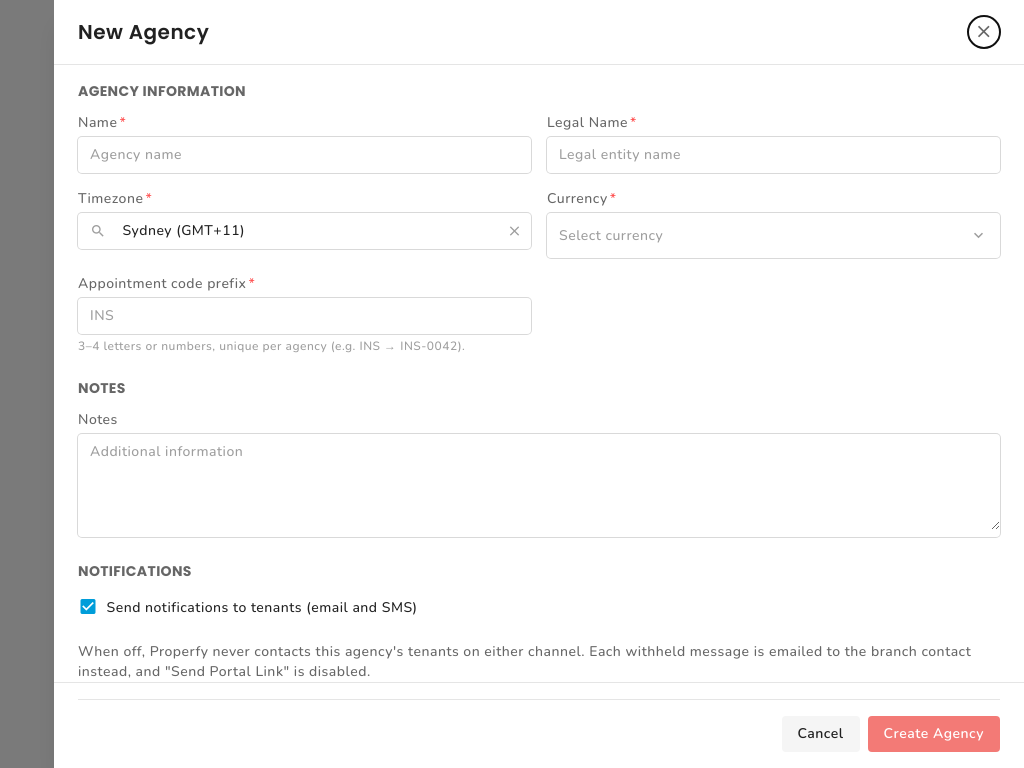
Test: TenantFormDrawer – submit behavior › renders backend VALIDATION_ERROR details inline on the matching field
In the field labelled "name": (304, 155) x1=78 y1=137 x2=531 y2=173, type "Test Agency"
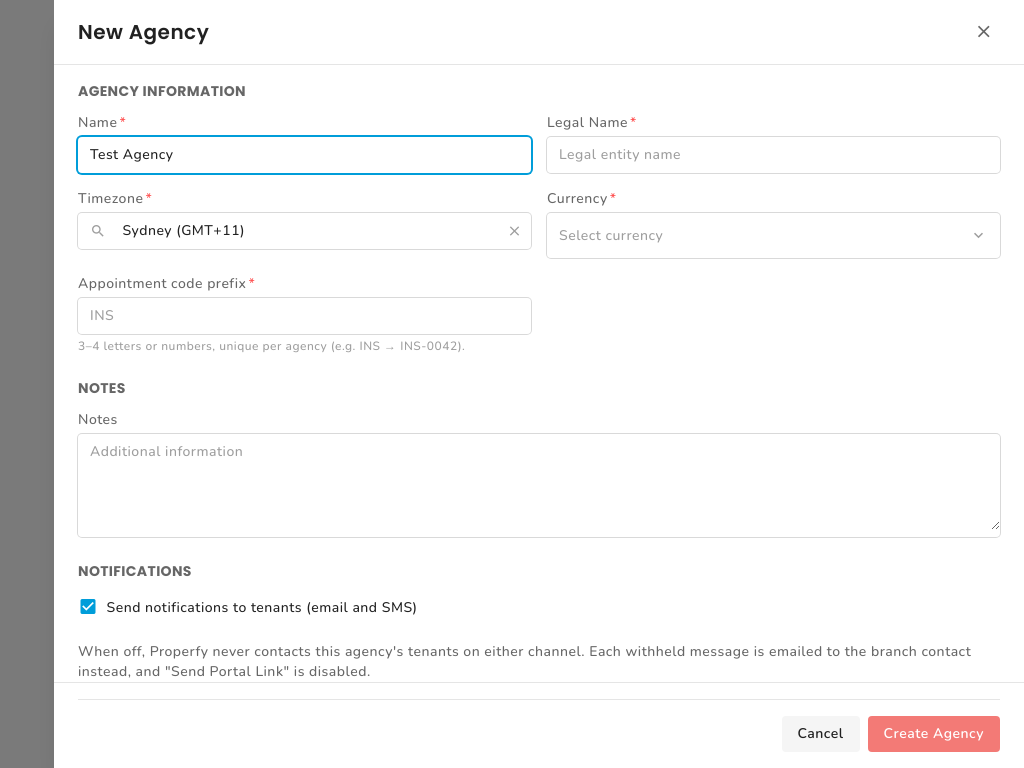
In the field named "Legal Name": (774, 155) x1=547 y1=137 x2=1000 y2=173, type "Test Agency LLC"
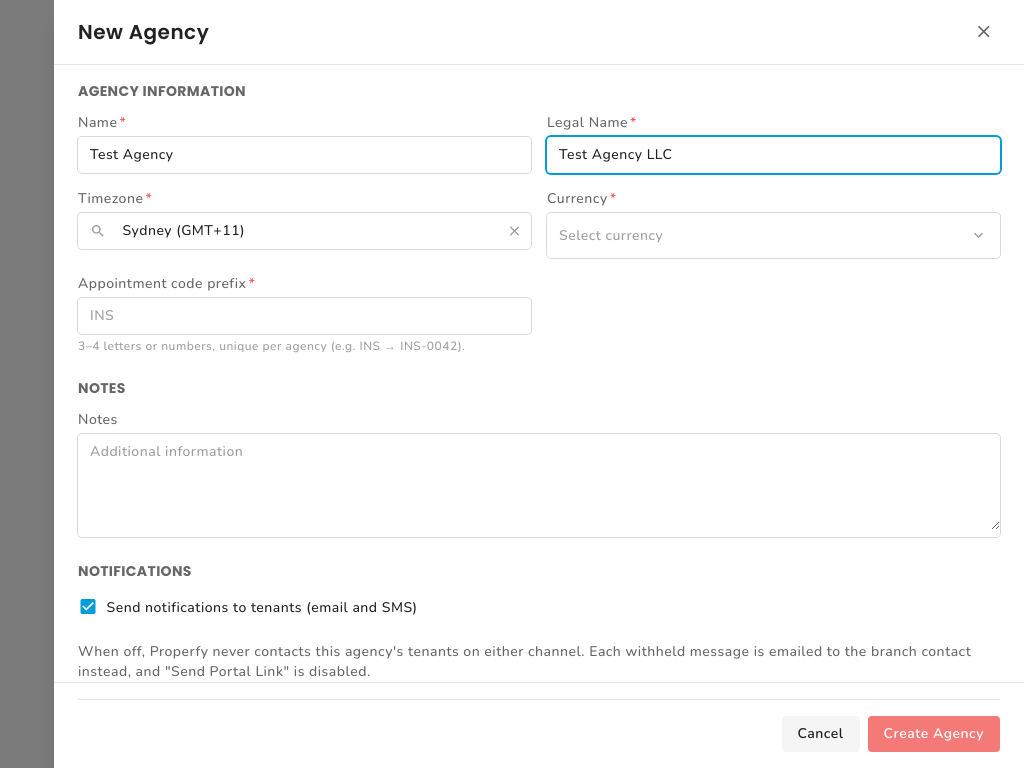
Click the button "Select currency": click(611, 235) x1=547 y1=213 x2=1000 y2=258
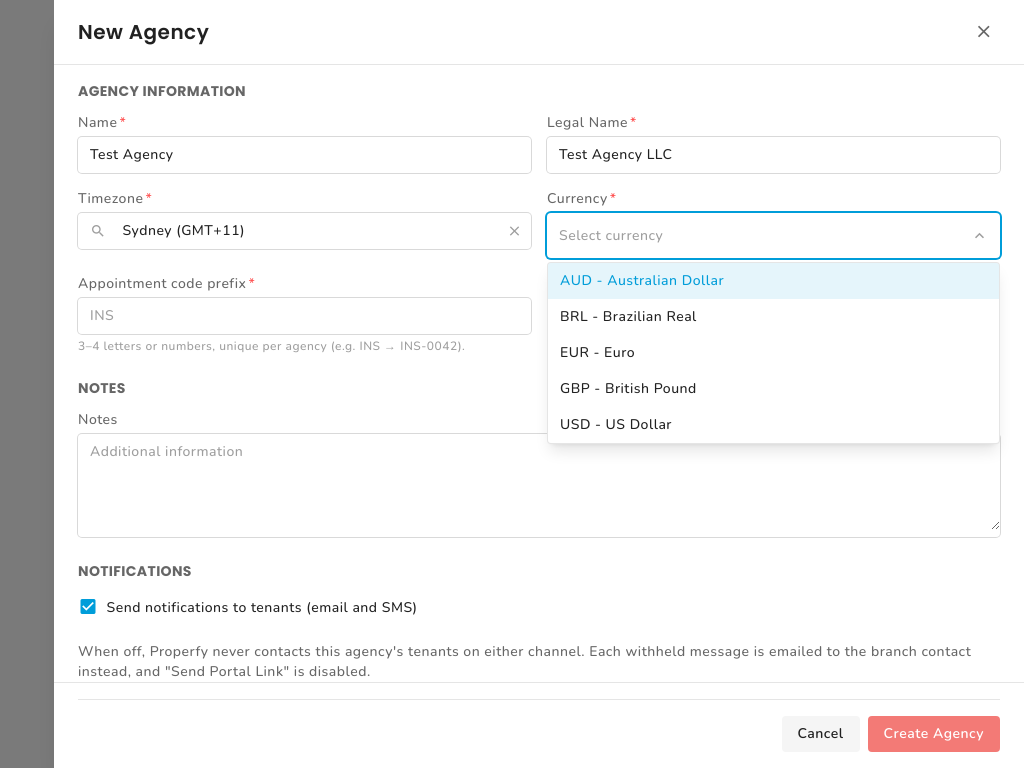
Click the option "AUD - Australian Dollar": click(642, 280) x1=548 y1=263 x2=999 y2=299
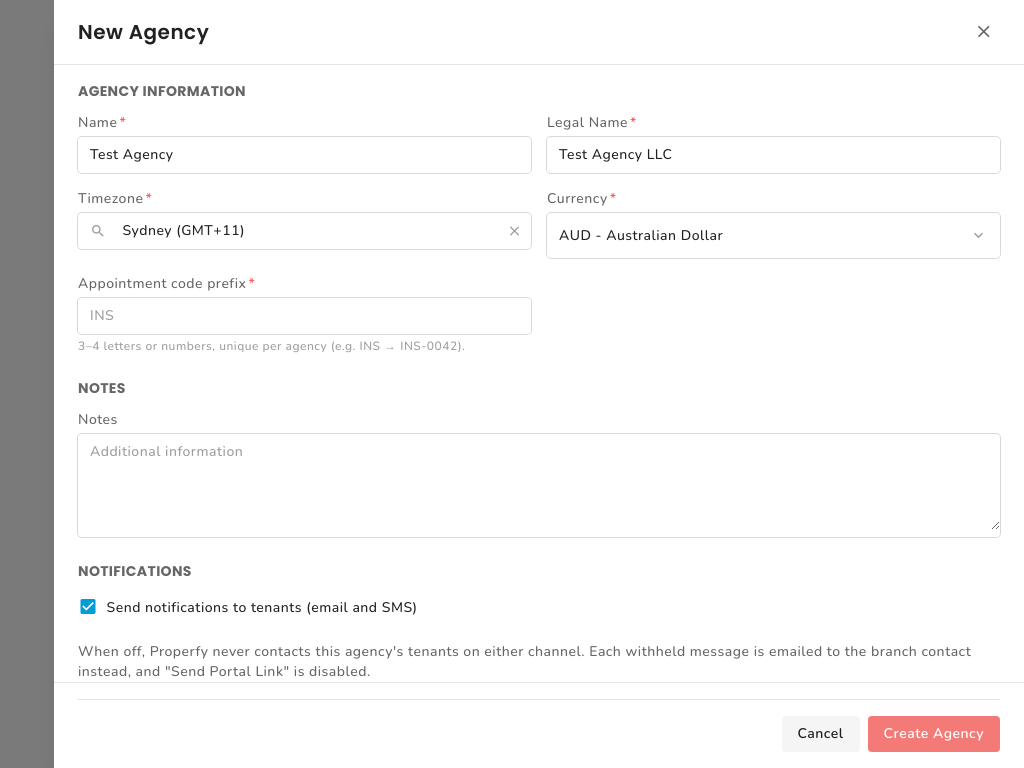
In the field named "Appointment code prefix": (304, 316) x1=78 y1=298 x2=531 y2=334, type "TST"
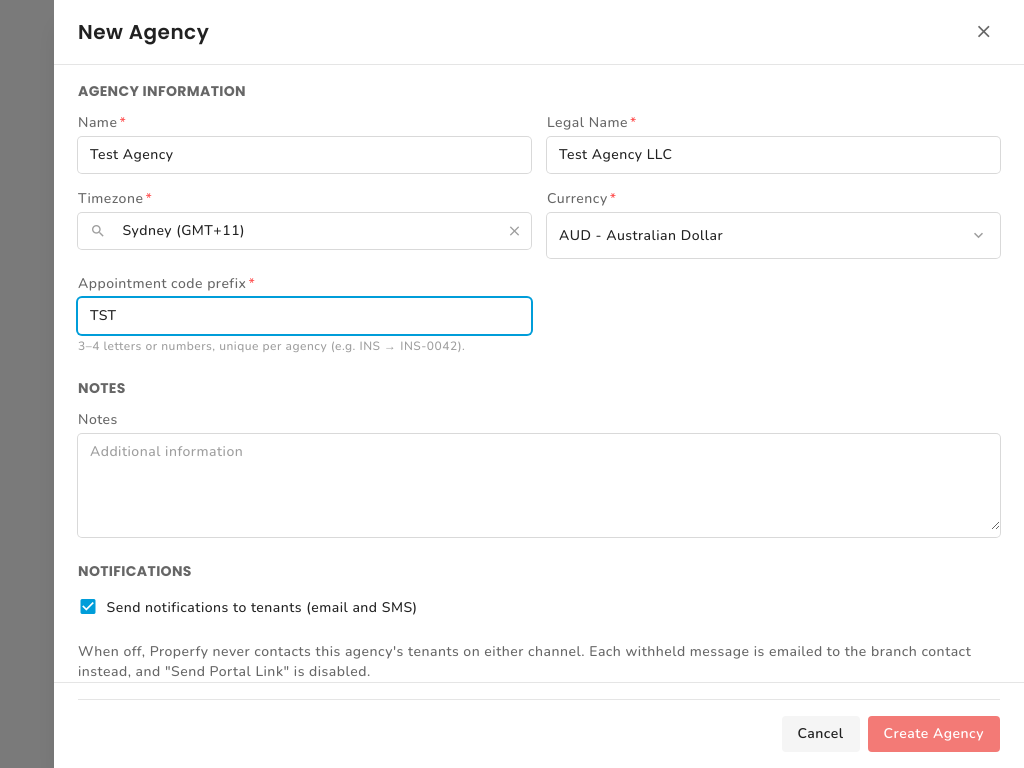
Click the button "Create Agency": click(934, 734) x1=868 y1=716 x2=1000 y2=752
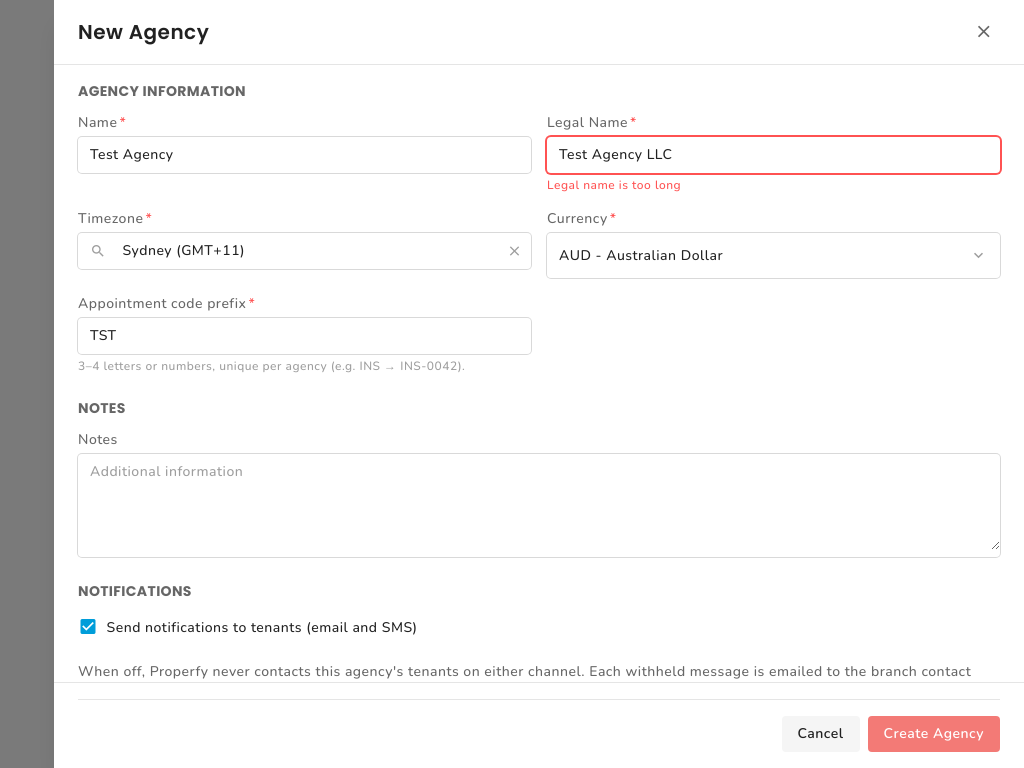
Expected: the text "Legal name is too long" is shown, x1=547 y1=177 x2=681 y2=193
